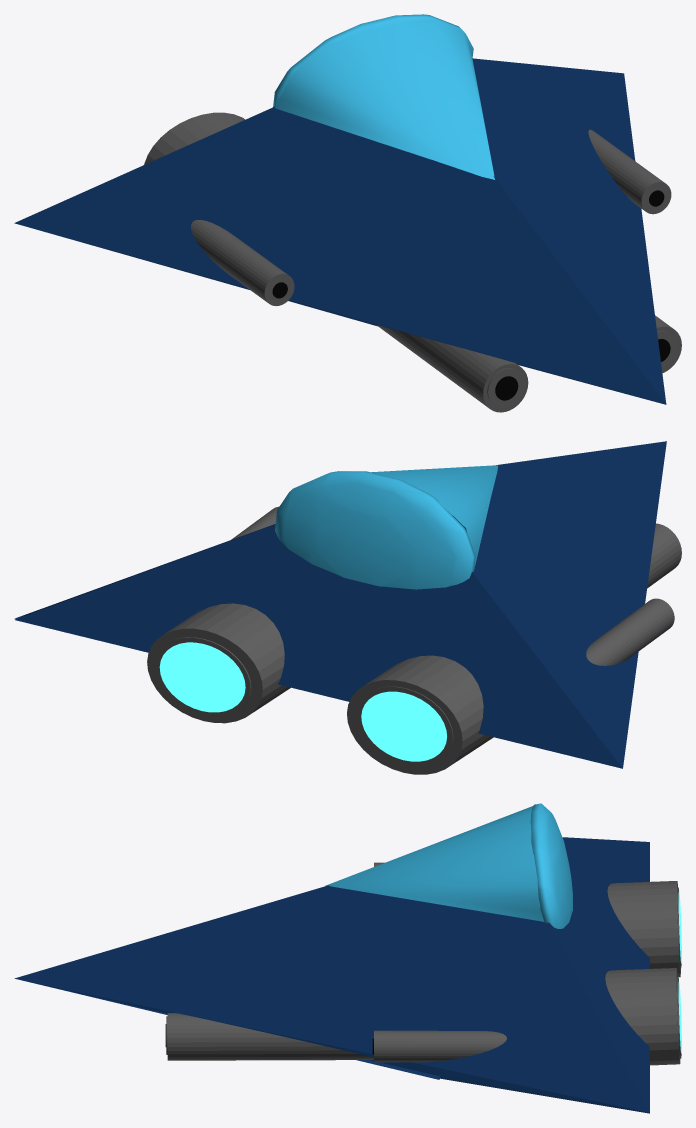
File: nave azul.fbx
3 views of the same model, one above another, from view 1: azimuth 30°, elevation 25°; view 2: azimuth 150°, elevation 25°; view 3: azimuth 270°, elevation 25° (orthographic). The views are drawn at different scales.
Parts seen in each view (by area): view 1: Plane.001, Cone, Cylinder.005, Cylinder.002, Cylinder.003, Cylinder, Mball, Cylinder.007; view 2: Plane.001, Mball, Cylinder.001, Cylinder, Cylinder.012, Cylinder.013, Cone, Cylinder.002, Cylinder.014, Cylinder.015, Cylinder.005; view 3: Plane.001, Cone, Cylinder.004, Cylinder.001, Cylinder, Mball, Cylinder.003.
Boxes of the visible parts, x1,y1,x2,y2 form: Plane.001: (14,58,666,404); Cone: (275,21,494,179); Cylinder.005: (376,325,528,412); Cylinder.002: (191,220,294,306); Cylinder.003: (588,129,671,214); Cylinder: (144,112,245,164); Mball: (273,14,473,109); Cylinder.007: (487,368,524,407); Plane.001: (14,441,666,768); Mball: (275,471,475,589); Cylinder.001: (147,603,290,723); Cylinder: (347,655,493,774); Cylinder.012: (159,642,245,712); Cylinder.013: (361,691,446,761); Cone: (371,465,498,571); Cylinder.002: (586,598,674,665); Cylinder.014: (153,637,251,716); Cylinder.015: (356,686,453,765); Cylinder.005: (647,523,681,588); Plane.001: (14,837,649,1113); Cone: (325,806,544,921); Cylinder.004: (167,1013,373,1060); Cylinder.001: (605,968,680,1065); Cylinder: (607,881,680,977); Mball: (530,803,572,928); Cylinder.003: (374,1030,506,1062).
Size of the model in its own units: 6.01 by 2.68 by 6.24.
